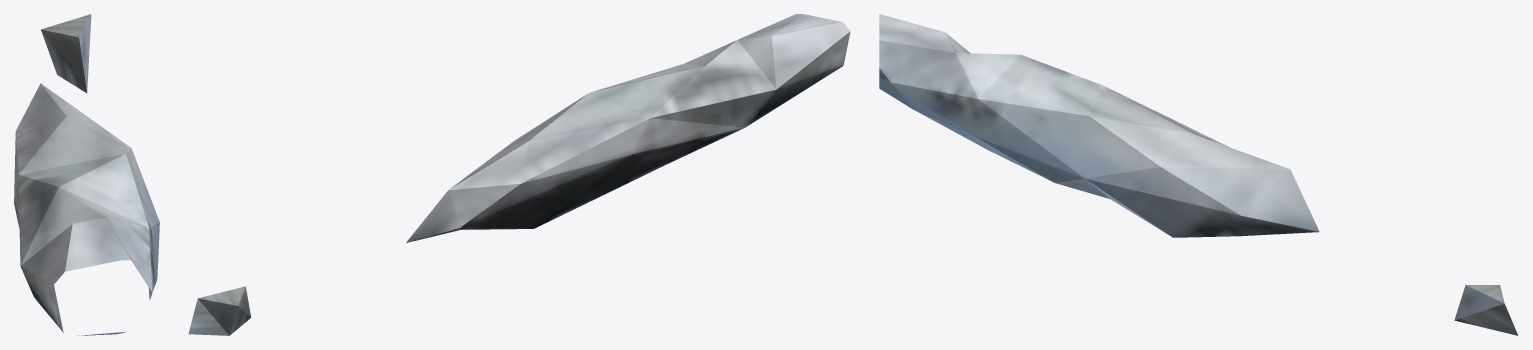
The picture shows the model from 3 angles, left to right: view 1: azimuth 30°, elevation 25°; view 2: azimuth 150°, elevation 25°; view 3: azimuth 270°, elevation 25°; orthographic projection. The views are drawn at different scales.
Bounding box in the file's own units: 0.1251 × 0.0566 × 0.2028.
1 material, 1 textured.
